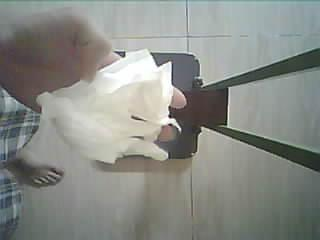paper: (18, 49, 180, 168)
